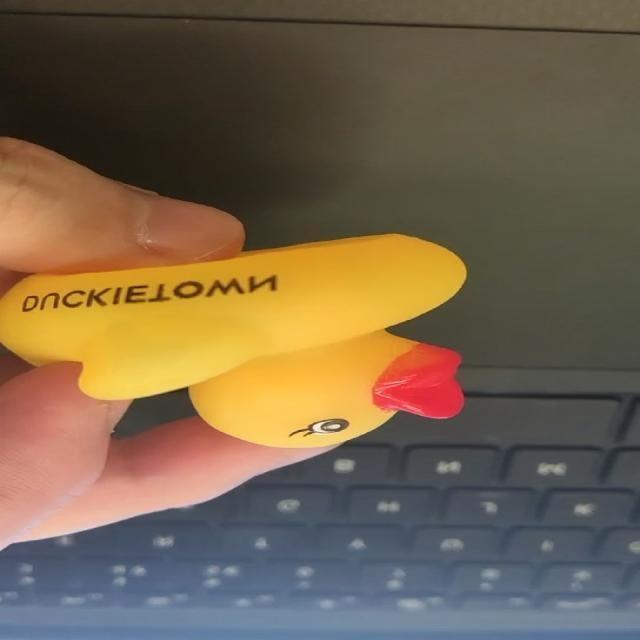rubber-duck: (0, 233, 464, 446)
